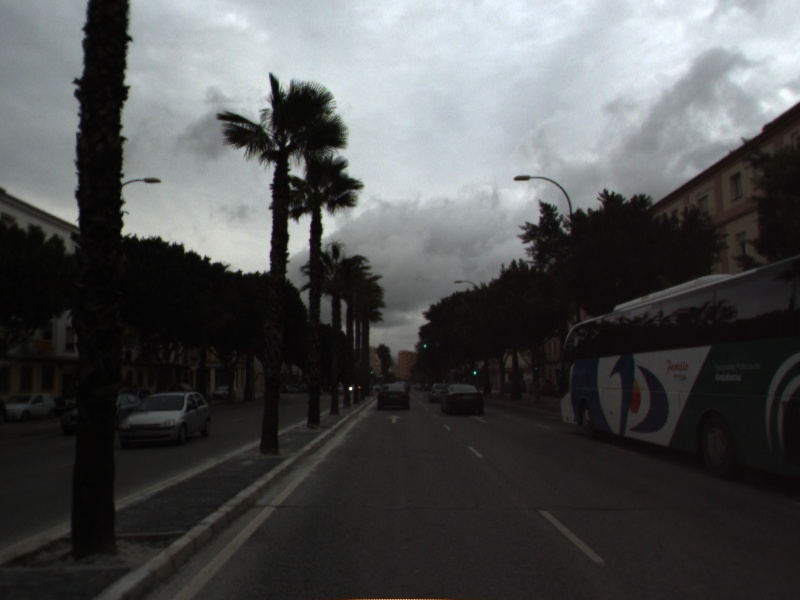STRAIGHT: (384, 412, 405, 426), (466, 413, 490, 425)
